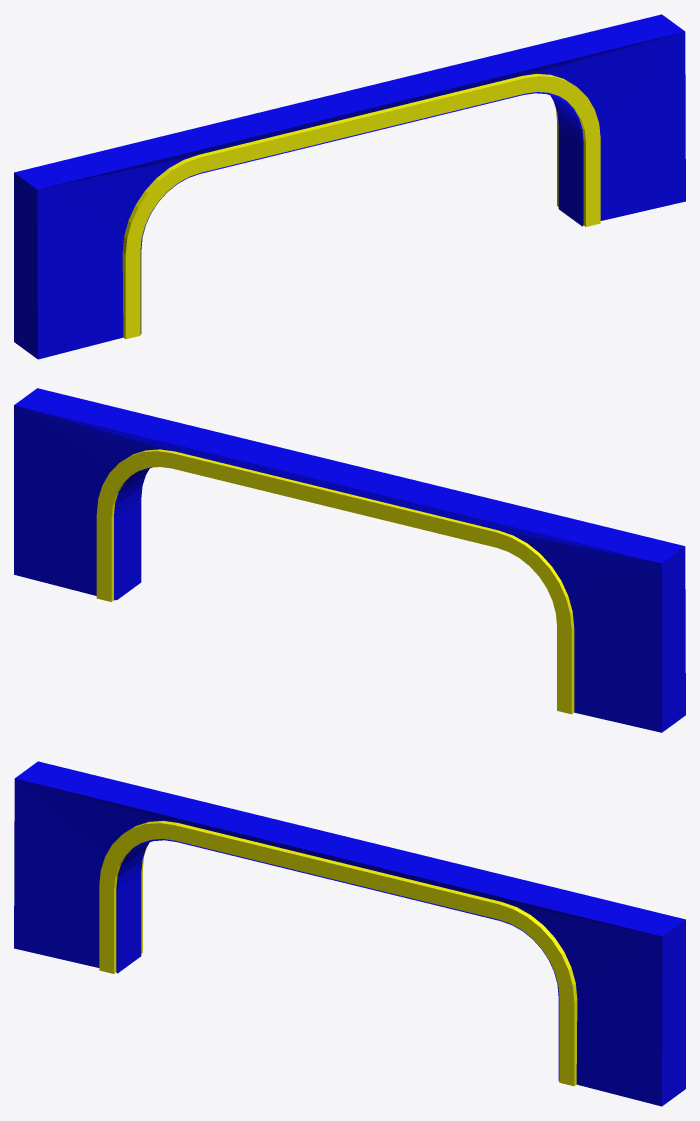
File: ARCH_TOP_16M.fbx
The picture shows the model from 3 angles, top to bottom: view 1: azimuth 30°, elevation 25°; view 2: azimuth 150°, elevation 25°; view 3: azimuth 330°, elevation 25°; orthographic projection.
Visible parts, largest first — view 1: ARCH_TOP_16M; view 2: ARCH_TOP_16M; view 3: ARCH_TOP_16M.
Boxes of the visible parts, left/top/right/bottom form: ARCH_TOP_16M: left=14, top=14, right=685, bottom=359; ARCH_TOP_16M: left=14, top=388, right=685, bottom=732; ARCH_TOP_16M: left=14, top=761, right=685, bottom=1106.
Bounding box in the file's own units: 1600 × 400 × 124.
